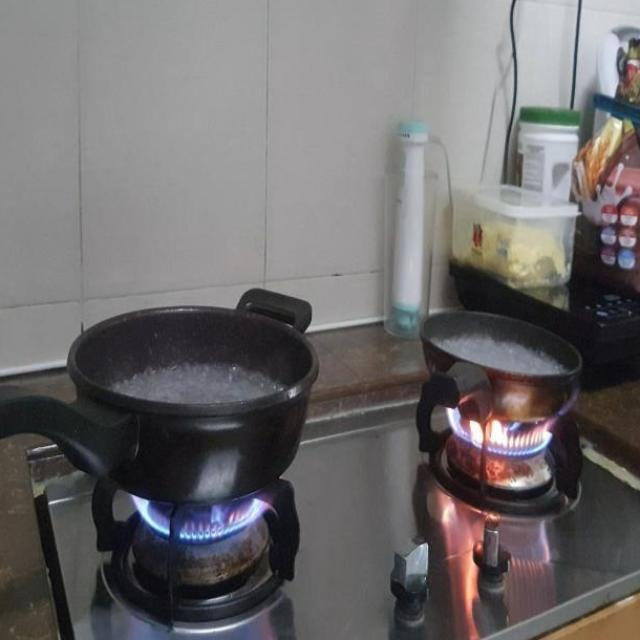smoke: (126, 480, 275, 546), (442, 406, 557, 456)
